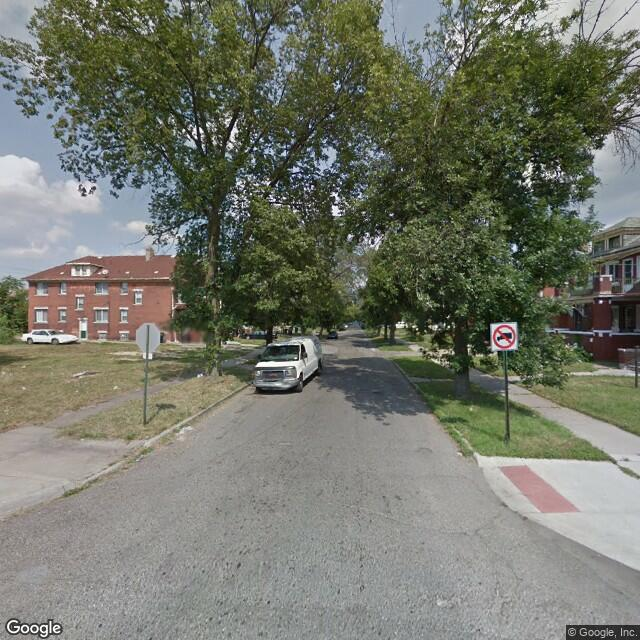litter: (177, 427, 185, 436), (456, 449, 463, 457), (467, 406, 474, 412), (112, 384, 119, 389)
